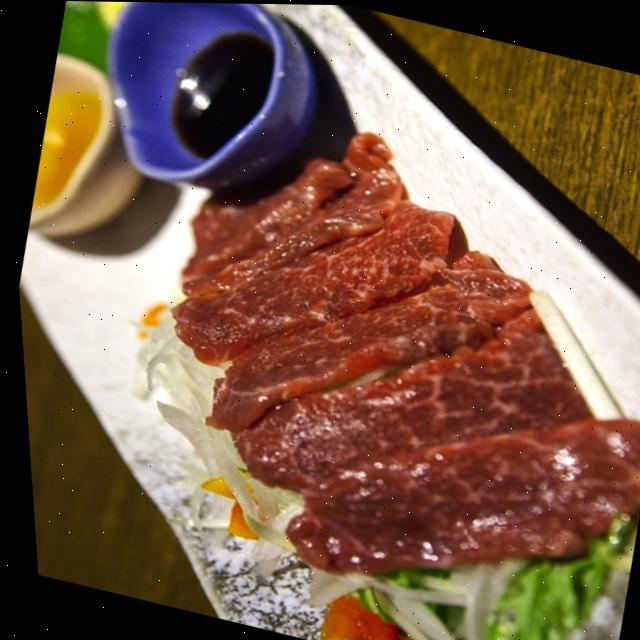刺身生食: (87, 88, 640, 640)
